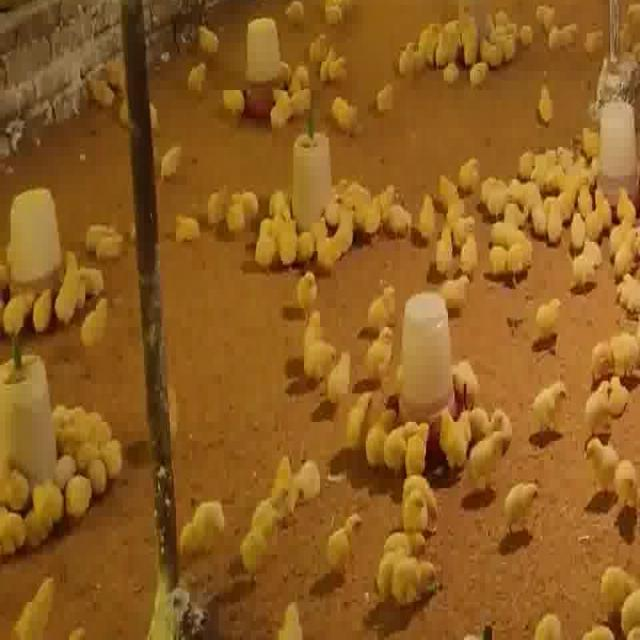poussin: (176, 487, 225, 551), (271, 442, 318, 503), (214, 511, 257, 574), (321, 501, 360, 566), (496, 480, 540, 537), (361, 392, 395, 458), (534, 376, 568, 438), (26, 469, 61, 528), (579, 428, 615, 484), (52, 392, 108, 428), (382, 406, 418, 460), (392, 557, 436, 601), (592, 559, 637, 602), (576, 369, 610, 424), (432, 427, 472, 473), (374, 548, 412, 596), (395, 462, 444, 499), (226, 478, 266, 523), (529, 584, 560, 640), (294, 325, 334, 367), (362, 314, 394, 365), (361, 270, 397, 315), (76, 299, 108, 349), (612, 455, 640, 511), (62, 238, 88, 296), (2, 281, 32, 331), (378, 515, 424, 547), (294, 206, 324, 253), (320, 345, 352, 389), (342, 384, 368, 438), (53, 264, 78, 319), (437, 394, 471, 434), (494, 192, 525, 235), (0, 494, 25, 547), (61, 461, 88, 510), (534, 295, 566, 336), (283, 312, 309, 362), (407, 408, 432, 460), (85, 435, 107, 494), (578, 605, 615, 640), (617, 570, 640, 625), (566, 232, 598, 270), (615, 260, 640, 308), (606, 318, 636, 358), (544, 19, 578, 54), (325, 84, 358, 117), (206, 184, 228, 233), (437, 175, 462, 218), (603, 361, 626, 407), (275, 210, 299, 254), (412, 261, 445, 293), (414, 180, 436, 228), (402, 488, 426, 532), (435, 5, 457, 52), (162, 140, 188, 179), (609, 224, 632, 268), (31, 284, 52, 332), (102, 422, 127, 462), (296, 265, 320, 306), (480, 160, 502, 204), (588, 325, 610, 369), (458, 8, 481, 50), (490, 12, 514, 52), (457, 147, 481, 187), (395, 41, 424, 74), (508, 234, 533, 272), (269, 73, 289, 120), (255, 204, 274, 253), (434, 215, 454, 261), (84, 207, 114, 237), (456, 218, 474, 268), (467, 394, 492, 430), (173, 210, 202, 241), (445, 201, 476, 230), (184, 46, 207, 85), (334, 192, 354, 234), (563, 202, 584, 242), (508, 164, 540, 189), (520, 139, 544, 172), (419, 7, 438, 47), (487, 395, 510, 428), (318, 41, 346, 68), (310, 223, 337, 251), (537, 134, 558, 170), (586, 178, 612, 207), (580, 23, 605, 53), (544, 182, 559, 232), (612, 176, 634, 210), (582, 204, 606, 235), (82, 250, 105, 282), (225, 85, 244, 123), (304, 18, 328, 48), (222, 198, 246, 228), (289, 72, 311, 104), (340, 168, 366, 195), (535, 89, 555, 124), (98, 230, 128, 253), (477, 27, 502, 54), (234, 192, 262, 216), (388, 189, 412, 217), (194, 13, 219, 39), (442, 47, 459, 85), (374, 176, 391, 212), (369, 70, 389, 100), (530, 186, 546, 223), (561, 163, 575, 204), (488, 232, 505, 264), (469, 60, 488, 87), (573, 172, 591, 200), (516, 9, 534, 35), (366, 190, 376, 230)
